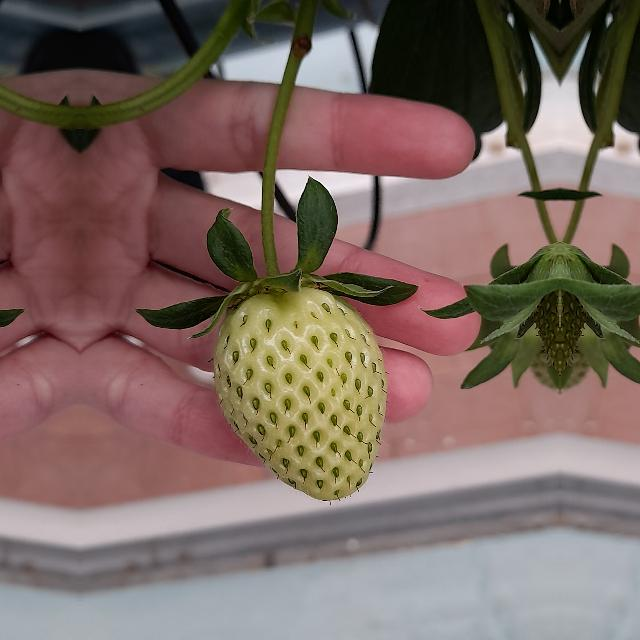Health_25: (213, 287, 387, 501)
